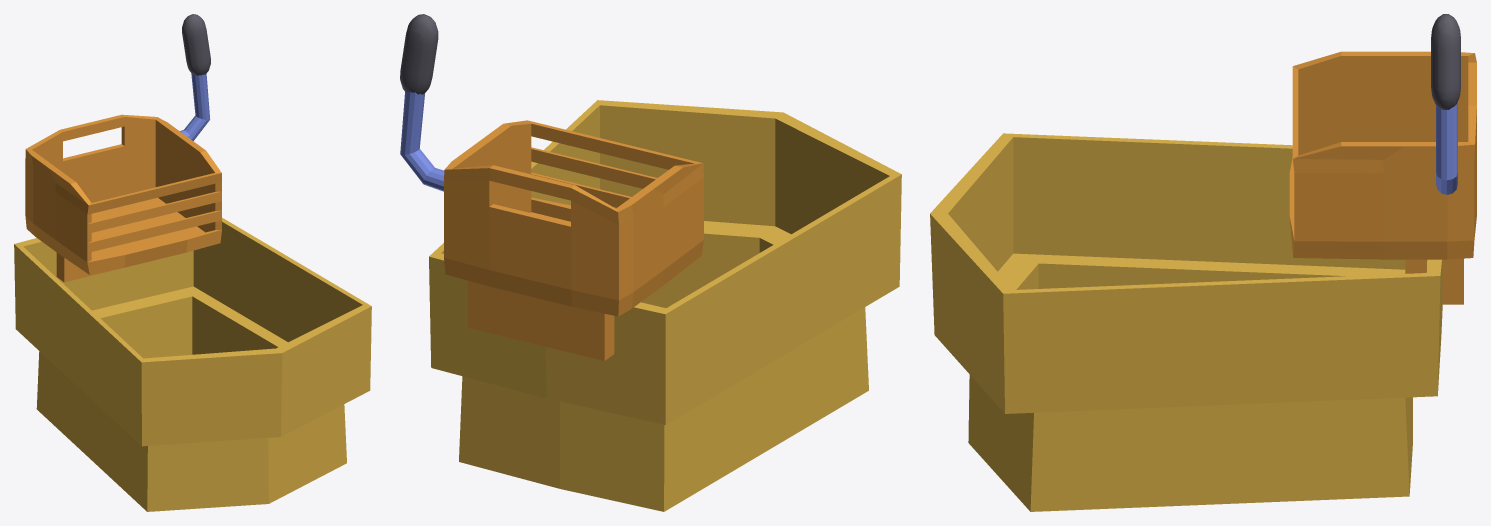
Rendered from bucketCOlor.fbx.
3 views of the same model, side by side, from view 1: azimuth 30°, elevation 25°; view 2: azimuth 150°, elevation 25°; view 3: azimuth 270°, elevation 25° (orthographic). The views are drawn at different scales.
Visible parts, largest first — view 1: Plane, Plane.001, Mball, Plane.003; view 2: Plane, Plane.001, Mball, Plane.003; view 3: Plane, Plane.001, Mball, Plane.003.
Part boxes in pixels (box(x1,y1,x2,y2)): Plane: box(14, 217, 371, 511); Plane.001: box(25, 114, 221, 282); Mball: box(182, 14, 210, 75); Plane.003: box(180, 73, 210, 140); Plane: box(429, 100, 901, 511); Plane.001: box(444, 120, 703, 360); Mball: box(400, 14, 438, 94); Plane.003: box(400, 91, 444, 191); Plane: box(930, 133, 1442, 511); Plane.001: box(1289, 51, 1476, 304); Mball: box(1431, 14, 1460, 109); Plane.003: box(1436, 102, 1457, 194).
Size of the model in its own units: 446 by 637 by 643.
